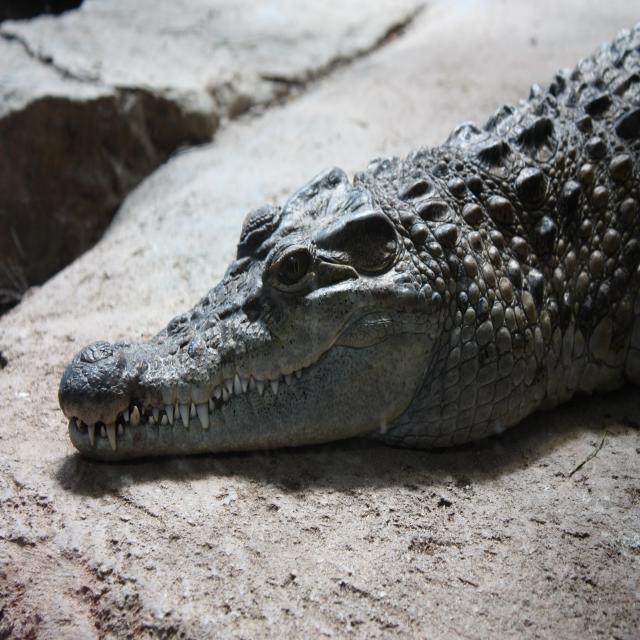crocodile: (34, 0, 640, 510)
